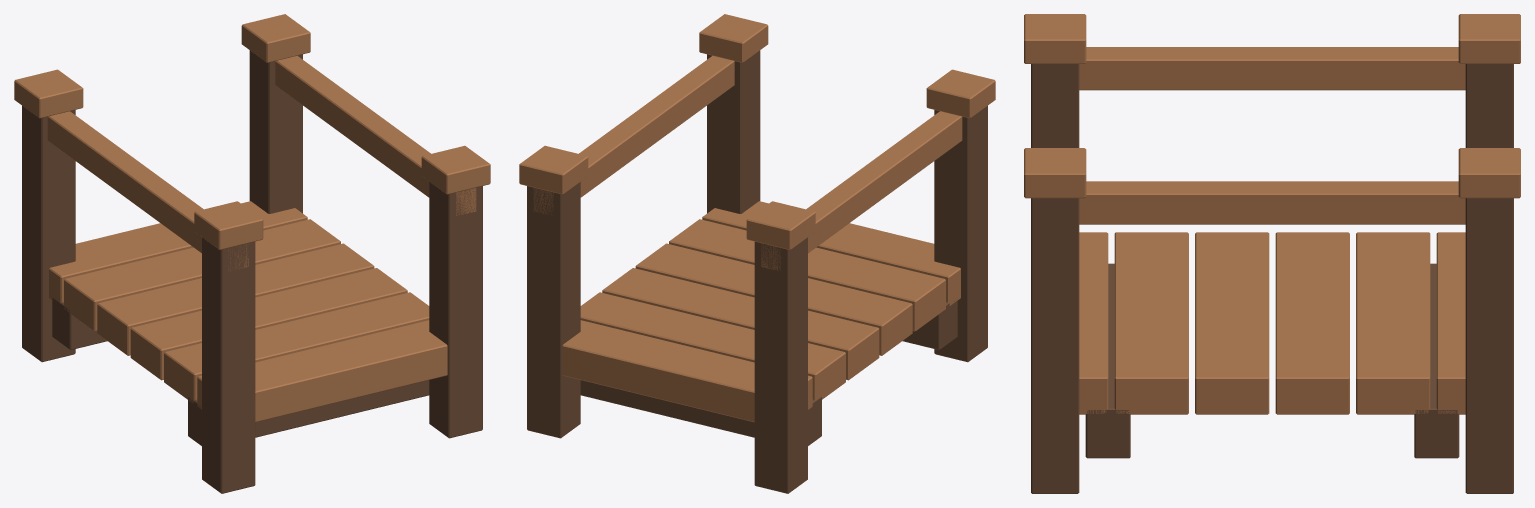
The model's file is wood_bridge_short_01.glb.
The picture shows the model from 3 angles, left to right: view 1: azimuth 30°, elevation 25°; view 2: azimuth 150°, elevation 25°; view 3: azimuth 270°, elevation 25°; orthographic projection. The views are drawn at different scales.
Parts seen in each view (by area): view 1: wood_bridge_short_01; view 2: wood_bridge_short_01; view 3: wood_bridge_short_01.
Part boxes in pixels (x1,y1,x2,y2): wood_bridge_short_01: (14,14,490,493); wood_bridge_short_01: (519,14,995,493); wood_bridge_short_01: (1024,14,1520,493).
Size of the model in its own units: 1.1 by 1.03 by 1.44.
